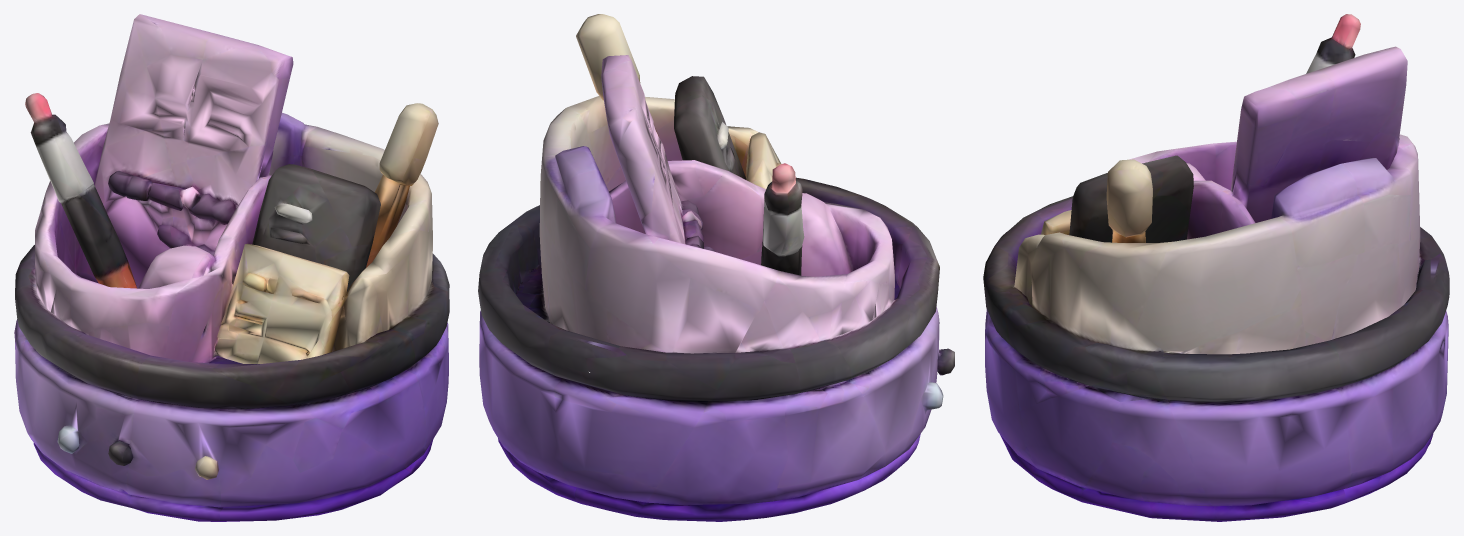
File: desk_organizer.glb
3 renders of one model, left to right at view 1: azimuth 30°, elevation 25°; view 2: azimuth 150°, elevation 25°; view 3: azimuth 270°, elevation 25°, orthographic. The views are drawn at different scales.
Visible parts, largest first — view 1: tripo_node_5a5c507f-bd77-4208-b2c3-c6be151fd6bc; view 2: tripo_node_5a5c507f-bd77-4208-b2c3-c6be151fd6bc; view 3: tripo_node_5a5c507f-bd77-4208-b2c3-c6be151fd6bc.
Part boxes in pixels (x1,y1,x2,y2): tripo_node_5a5c507f-bd77-4208-b2c3-c6be151fd6bc: [14, 14, 449, 521]; tripo_node_5a5c507f-bd77-4208-b2c3-c6be151fd6bc: [478, 14, 954, 521]; tripo_node_5a5c507f-bd77-4208-b2c3-c6be151fd6bc: [983, 14, 1449, 521].
Bounding box in the file's own units: 0.9792 × 0.8834 × 0.9729.
1 material, 1 textured.
